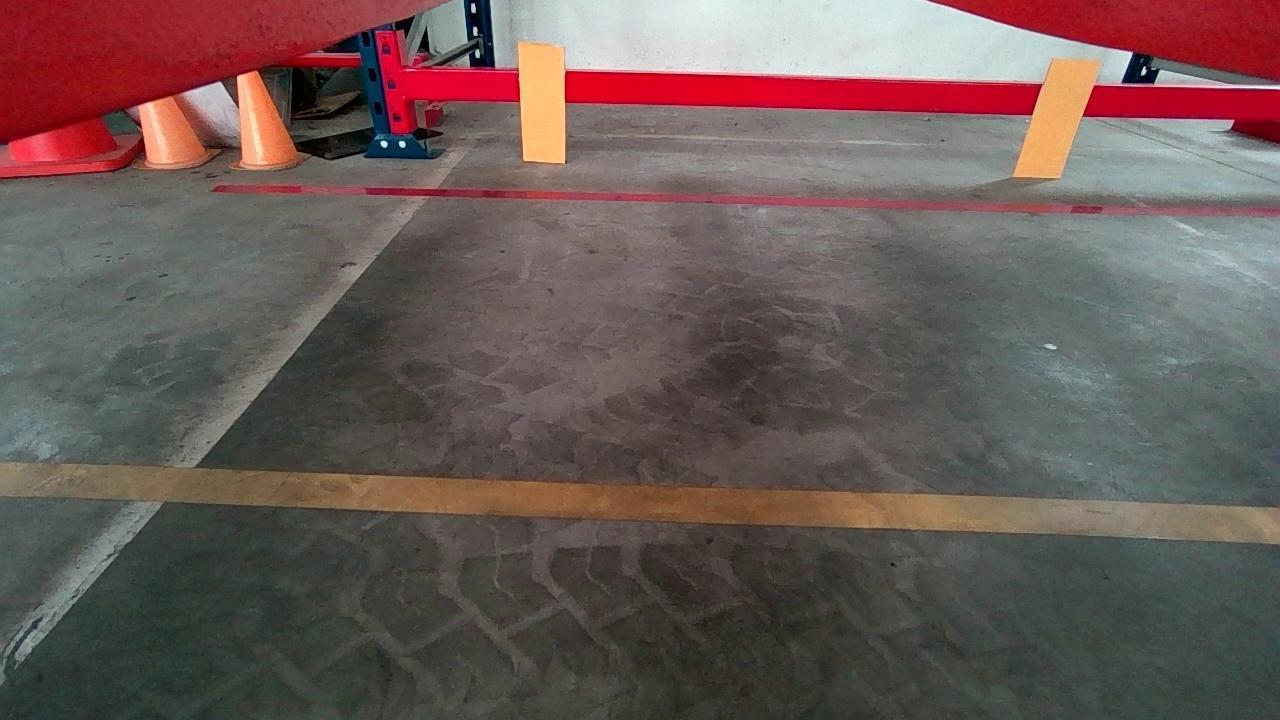h_rack: (402, 68, 1280, 119)
orange_strip: (1011, 60, 1104, 177), (519, 41, 567, 160)
red_line: (211, 180, 1280, 217)
yellow_line: (2, 461, 1280, 542)
